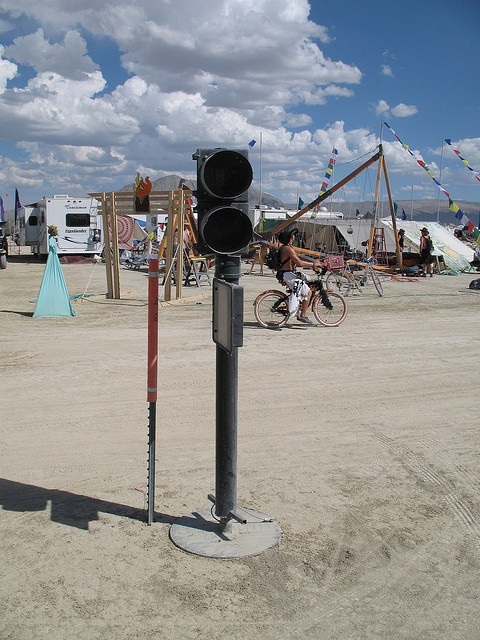non-vehicle: (252, 280, 346, 329), (322, 252, 387, 295)
